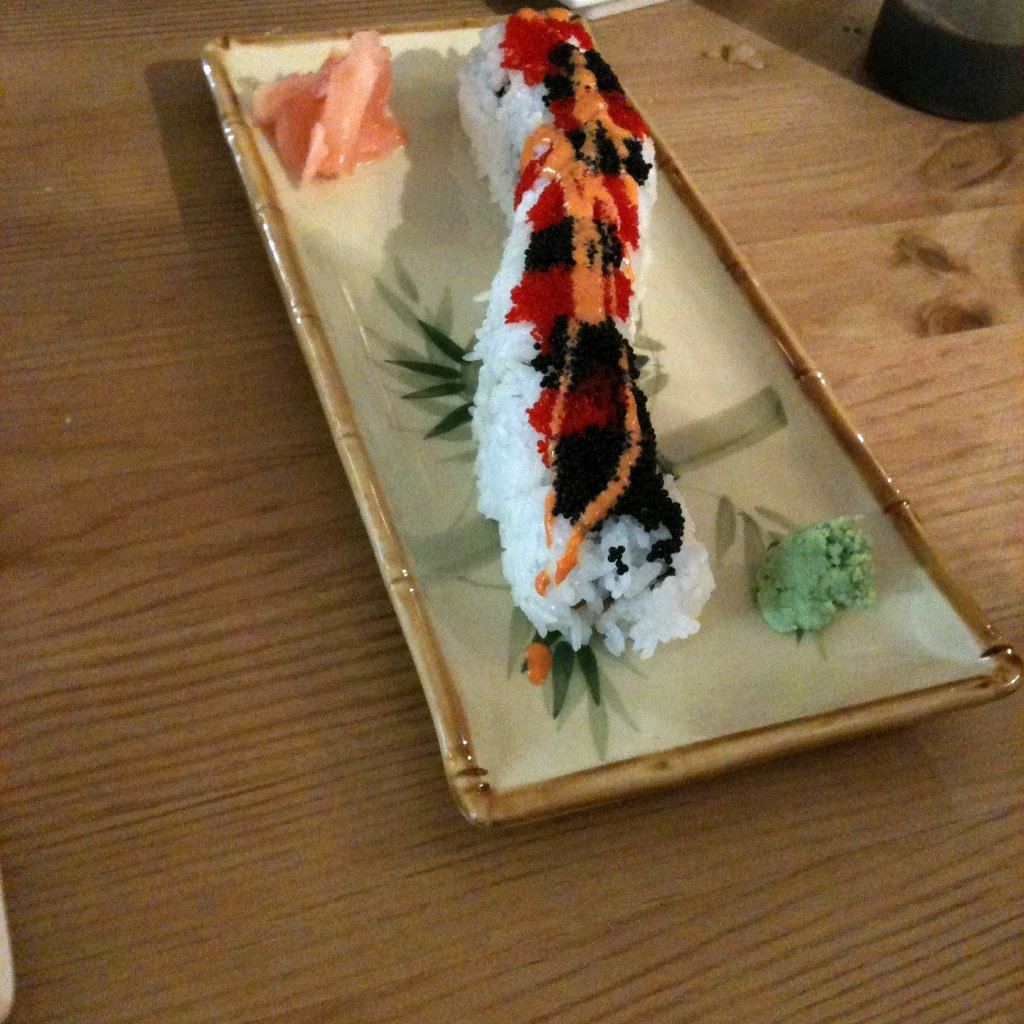sushi: (489, 13, 717, 649)
